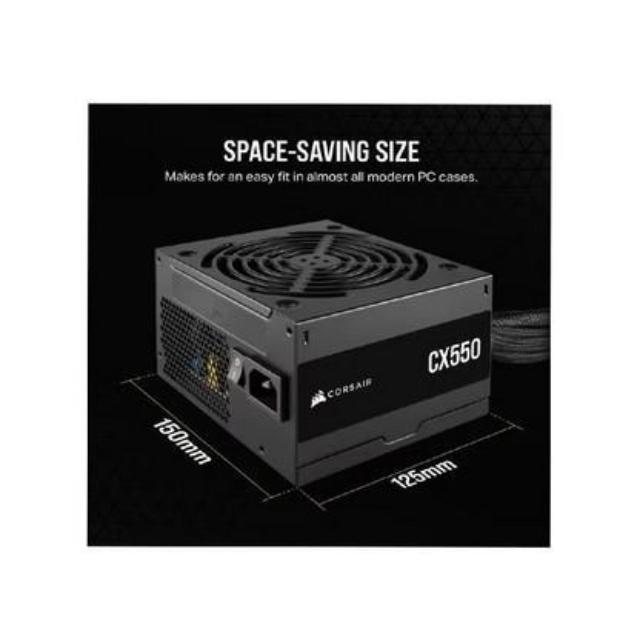PSU: (147, 214, 501, 492)
